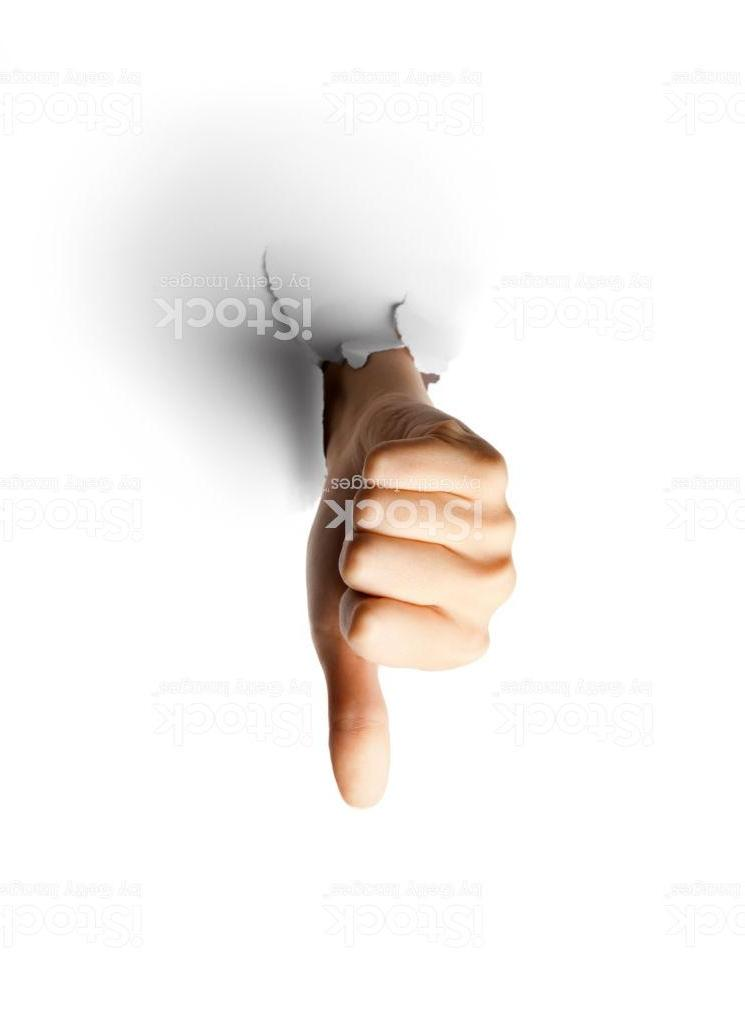thumbsdown: (302, 404, 518, 811)
